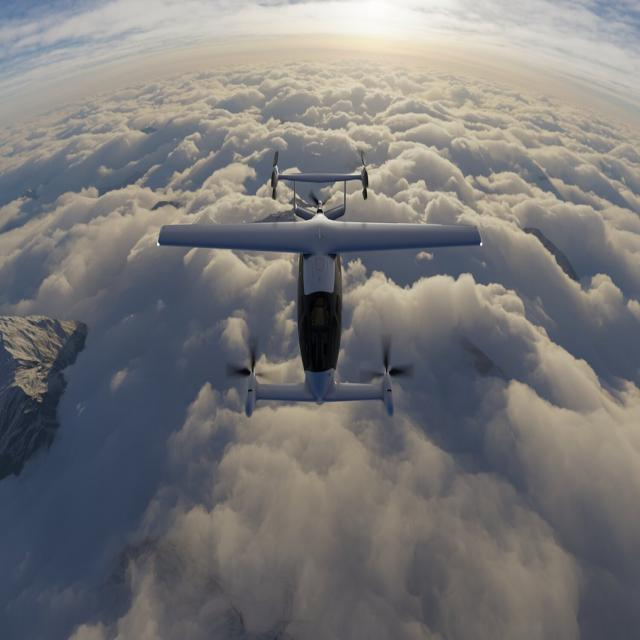iha: (143, 158, 496, 419)
